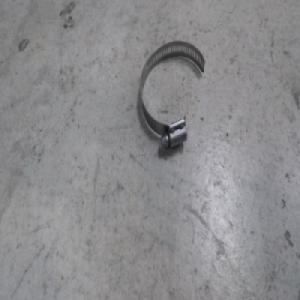AdjustableClamp: (139, 47, 207, 155)
